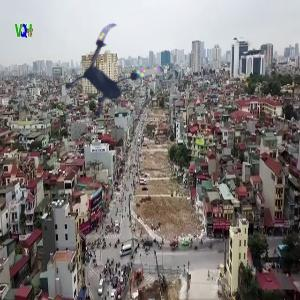drone: (57, 23, 168, 134)
